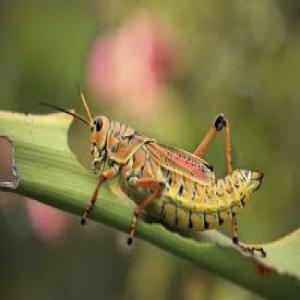locust: (74, 90, 269, 254)
